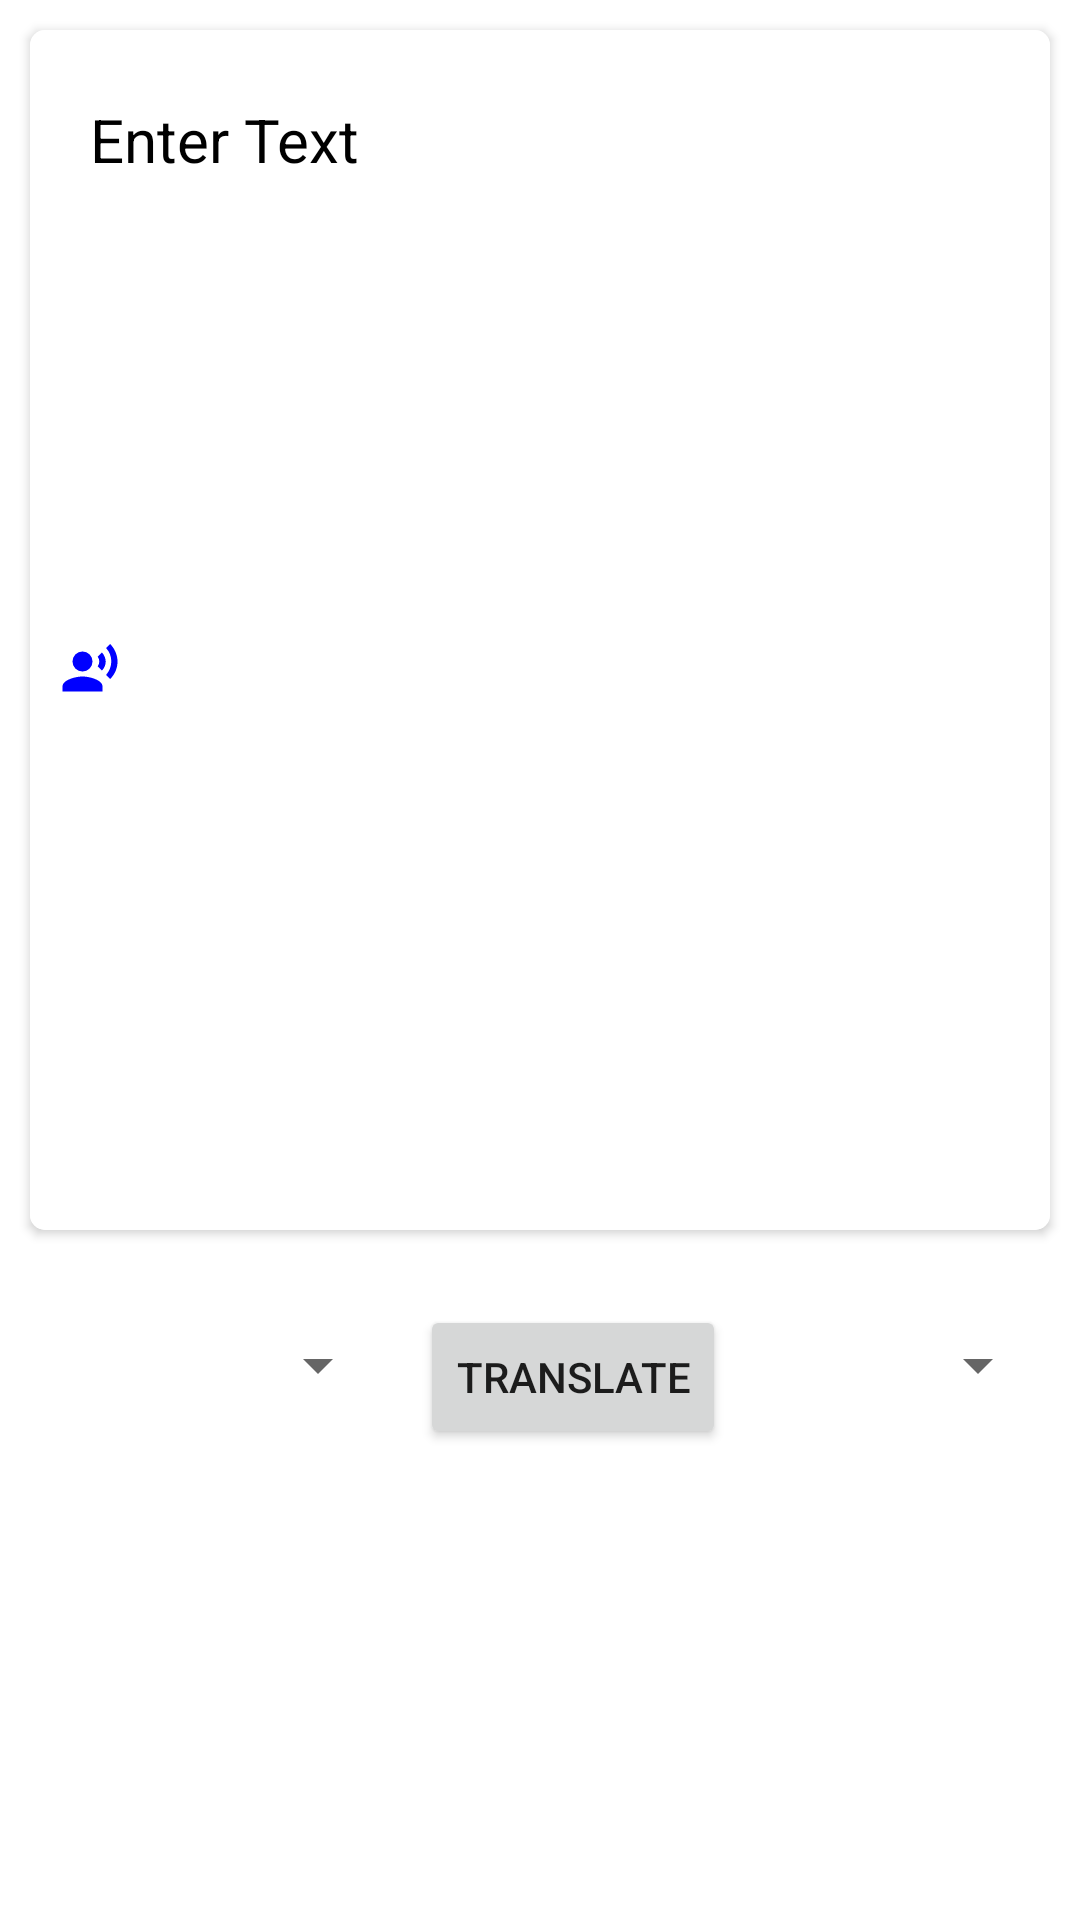

Icons on this 1080px×1920px Android screen, each with its box as region(x1, y1, x2, y2):
speaker: region(62, 644, 118, 692)
